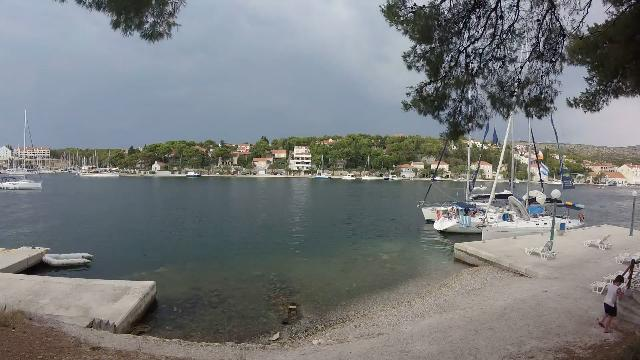Sailboat: (0, 174, 48, 195)
